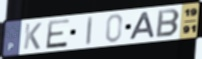0: (104, 13, 124, 43)
A: (128, 11, 156, 42)
B: (155, 8, 182, 39)
E: (44, 18, 72, 50)
I: (85, 15, 94, 46)
K: (22, 22, 44, 51)
